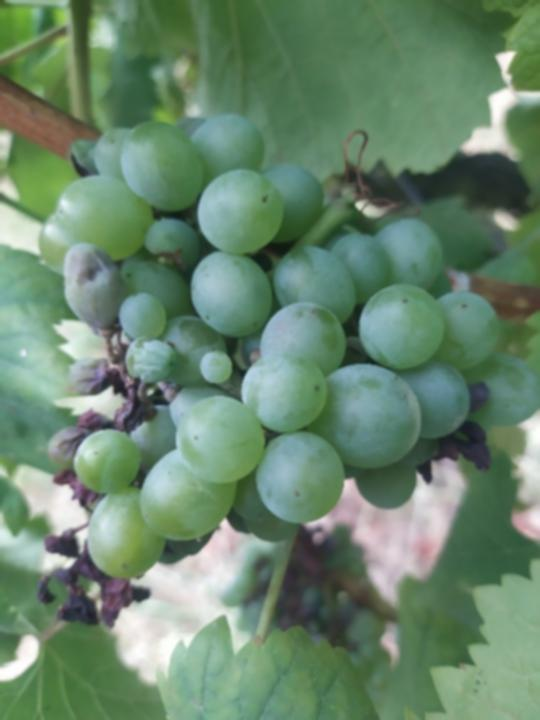grape: (34, 111, 540, 633)
